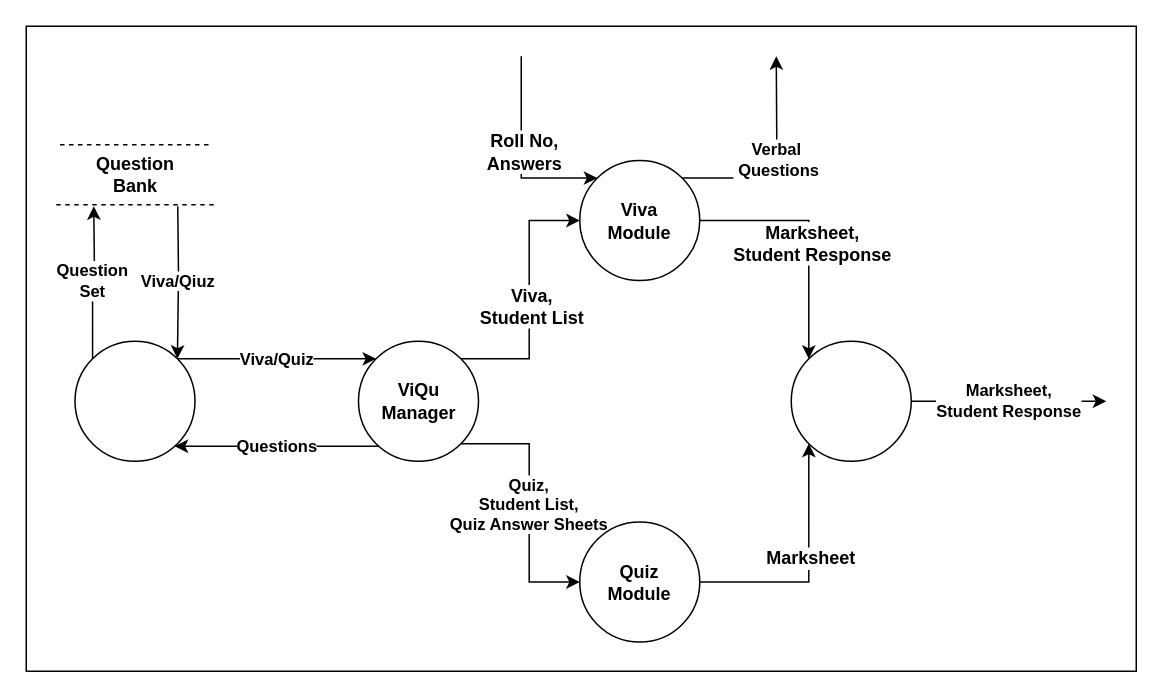
Image size: 1163x698. Some labels were removed from this diagram. Each missing label, with the centre of its shape:
"Database Manager" belongs at pixel 134 400.
"Report Generator" belongs at pixel 850 400.
